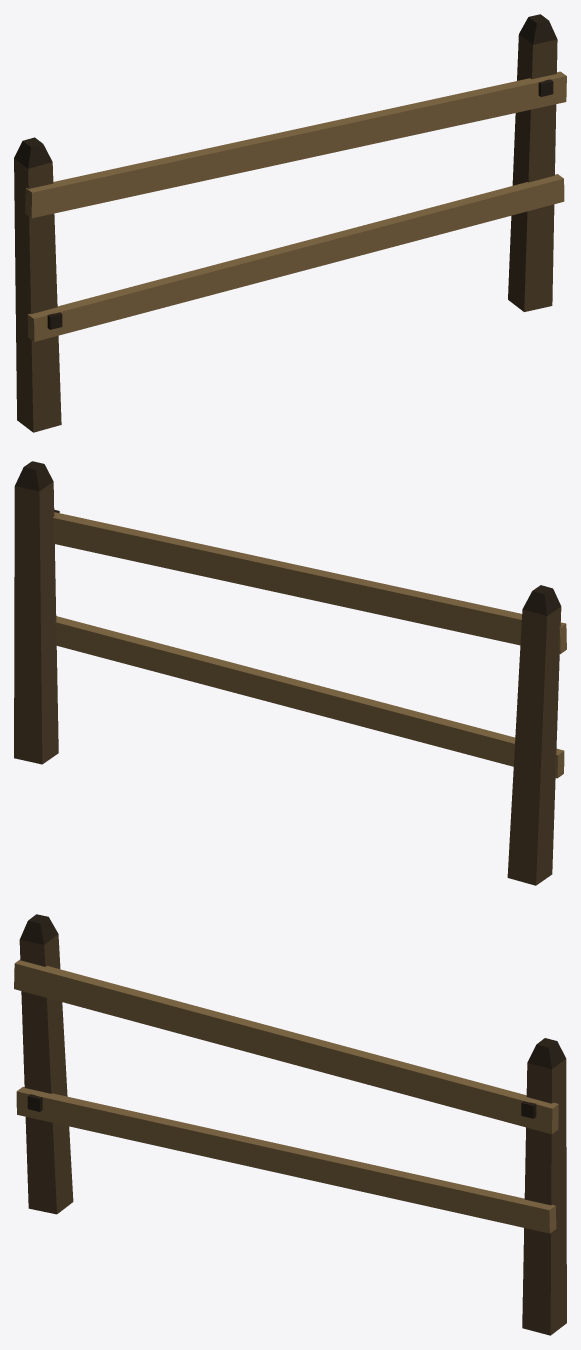
The model's file is fence_wood.glb.
The picture shows the model from 3 angles, top to bottom: view 1: azimuth 30°, elevation 25°; view 2: azimuth 150°, elevation 25°; view 3: azimuth 330°, elevation 25°; orthographic projection.
Parts seen in each view (by area): view 1: fence_wood; view 2: fence_wood; view 3: fence_wood.
Part boxes in pixels (x1,y1,x2,y2): fence_wood: (14,14,566,432); fence_wood: (14,461,566,885); fence_wood: (14,914,566,1335).
Size of the model in its own units: 2.18 by 1.11 by 0.1775.
